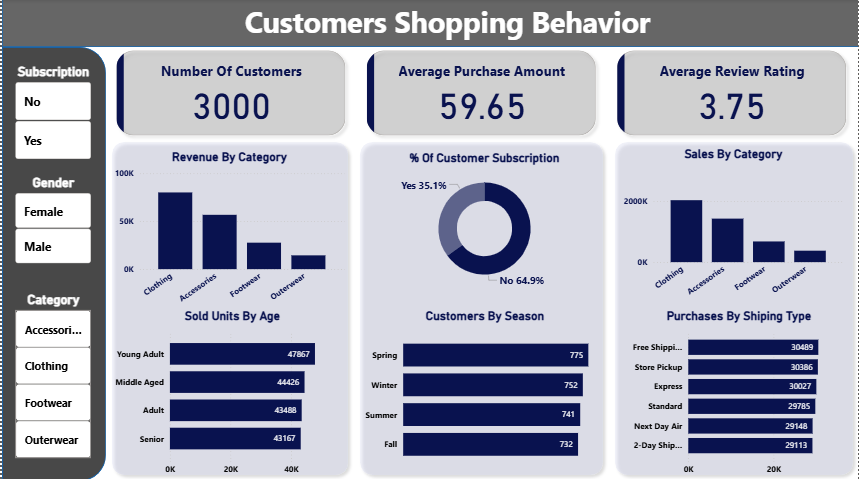

This screenshot's page, from the dashboard's own definition file:
{"tool":"powerbi","page":{"name":"Page 1","canvas":[1280,720],"ordinal":0},"visuals":[{"type":"cardVisual","fields":{"Data":["customer.Number Of Customers","customer.Average Purchase Amount","customer.Average Review Rating"]},"box":[153.9,59.8,1124.8,161.3],"z":0},{"type":"shape","box":[0,0,1280.2,71.7],"z":1000},{"type":"textbox","box":[313.7,0,703.6,71.7],"z":2000},{"type":"shape","box":[0,71.7,155.4,648.3],"z":3000},{"type":"shape","box":[155.4,204.6,370.5,515.4],"z":4000},{"type":"shape","box":[525.8,204.6,380.9,515.4],"z":5000},{"type":"shape","box":[906.7,204.6,373.4,515.4],"z":6000},{"type":"donutChart","title":"% Of Customer Subscription","fields":{"Y":["CountNonNull(customer.customer_id)"],"Category":["customer.subscription_status"]},"box":[546.7,227.1,348,210.6],"z":7000},{"type":"clusteredBarChart","title":"Customers By Season","fields":{"Category":["customer.season"],"Y":["CountNonNull(customer.customer_id)"]},"box":[536.3,463.1,370.5,243.5],"z":8000},{"type":"columnChart","title":"Revenue By Category","fields":{"Category":["customer.category"],"Y":["Sum(customer.purchase_amount)"]},"box":[162.8,225.6,354,248],"z":9000},{"type":"columnChart","title":"Sales By Category","fields":{"Category":["customer.category"],"Y":["Sum(customer.customer_id)"]},"box":[923.2,221.1,339.1,242],"z":10000},{"type":"advancedSlicerVisual","title":"Subscription","fields":{"Values":["customer.subscription_status"]},"box":[14.9,97.1,124,147.9],"z":11000},{"type":"advancedSlicerVisual","title":"Gender","fields":{"Values":["customer.gender"]},"box":[14.9,262.9,124,137.4],"z":12000},{"type":"advancedSlicerVisual","title":"Category","fields":{"Values":["customer.category"]},"box":[14.9,437.7,124,256.9],"z":13000},{"type":"clusteredBarChart","title":"Sold Units By Age","fields":{"Y":["Sum(customer.purchase_amount)"],"Category":["customer.age_group"]},"box":[162.8,463.1,363,256.9],"z":14000},{"type":"barChart","title":"Purchases By Shiping Type","fields":{"Category":["customer.shipping_type"],"Y":["Sum(customer.purchase_amount)"]},"box":[923.2,463.1,355.5,256.9],"z":15000}]}

Visuals, with their boxes in screenshot pixels (x1, y1, x2, y2), scaled from the page's 1280x720 canvas onto the 859x479 screenshot:
cardVisual - customer.Number Of Customers x customer.Average Purchase Amount: region(103, 40, 858, 147)
shape: region(0, 0, 858, 48)
textbox: region(211, 0, 683, 48)
shape: region(0, 48, 104, 478)
shape: region(104, 136, 353, 478)
shape: region(353, 136, 608, 478)
shape: region(608, 136, 858, 478)
"% Of Customer Subscription" donutChart: region(367, 151, 600, 291)
"Customers By Season" clusteredBarChart: region(360, 308, 609, 470)
"Revenue By Category" columnChart: region(109, 150, 347, 315)
"Sales By Category" columnChart: region(620, 147, 847, 308)
"Subscription" advancedSlicerVisual: region(10, 65, 93, 163)
"Gender" advancedSlicerVisual: region(10, 175, 93, 266)
"Category" advancedSlicerVisual: region(10, 291, 93, 462)
"Sold Units By Age" clusteredBarChart: region(109, 308, 353, 478)
"Purchases By Shiping Type" barChart: region(620, 308, 858, 478)
